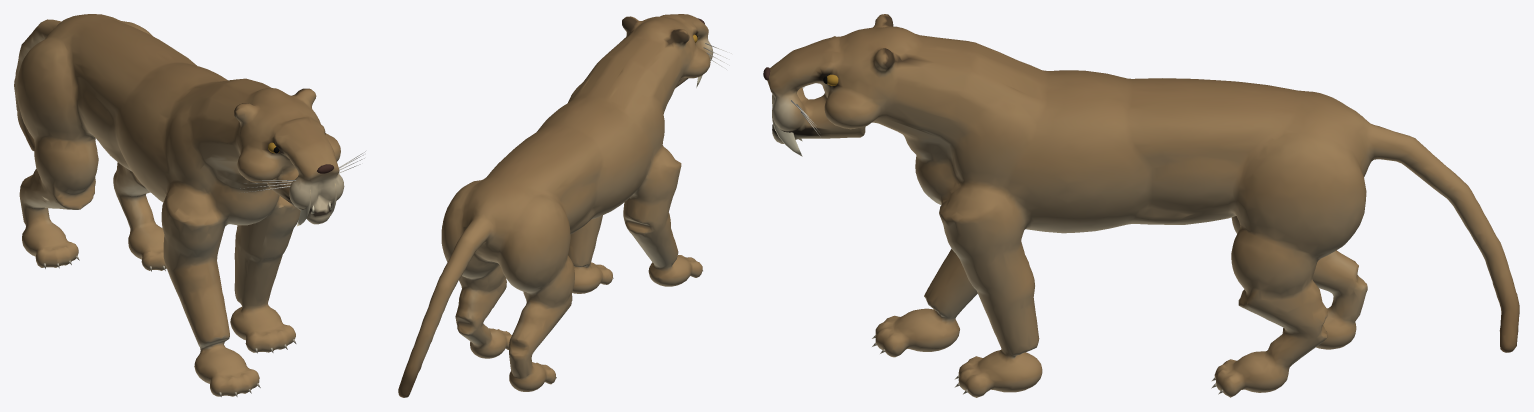
Rendered from MachairodusAphanistus.fbx.
3 views of the same model, side by side, from view 1: azimuth 30°, elevation 25°; view 2: azimuth 150°, elevation 25°; view 3: azimuth 270°, elevation 25° (orthographic). The views are drawn at different scales.
Visible parts, largest first — view 1: MachairodusAphanistus; view 2: MachairodusAphanistus; view 3: MachairodusAphanistus.
Part boxes in pixels (bbox=[...]): MachairodusAphanistus: bbox=[14, 14, 365, 396]; MachairodusAphanistus: bbox=[398, 14, 731, 397]; MachairodusAphanistus: bbox=[763, 14, 1519, 397].
Bounding box in the file's own units: 0.5315 × 1.11 × 2.25.
